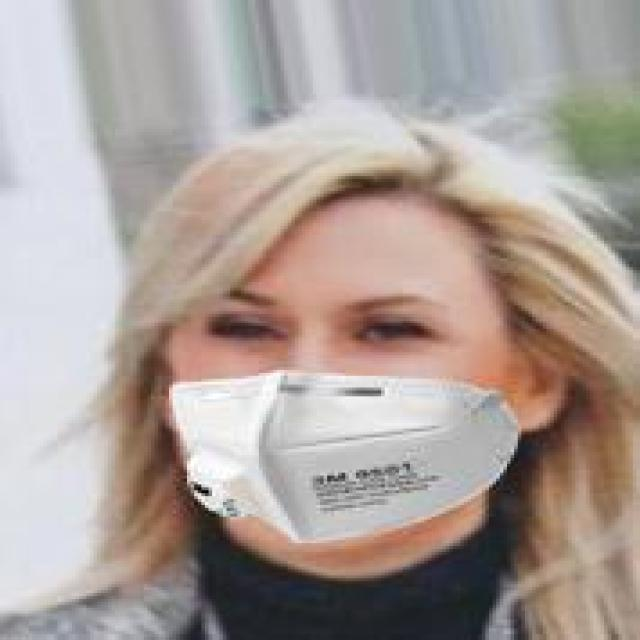mask: (93, 111, 615, 552)
